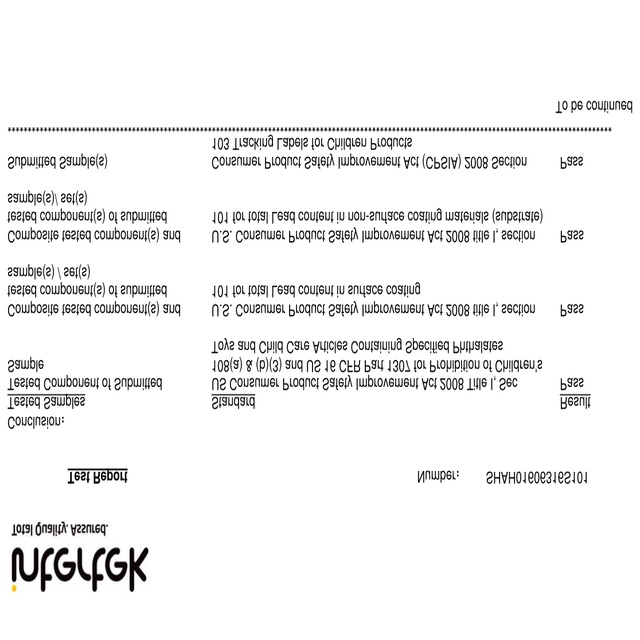intertek: (6, 540, 156, 594)
